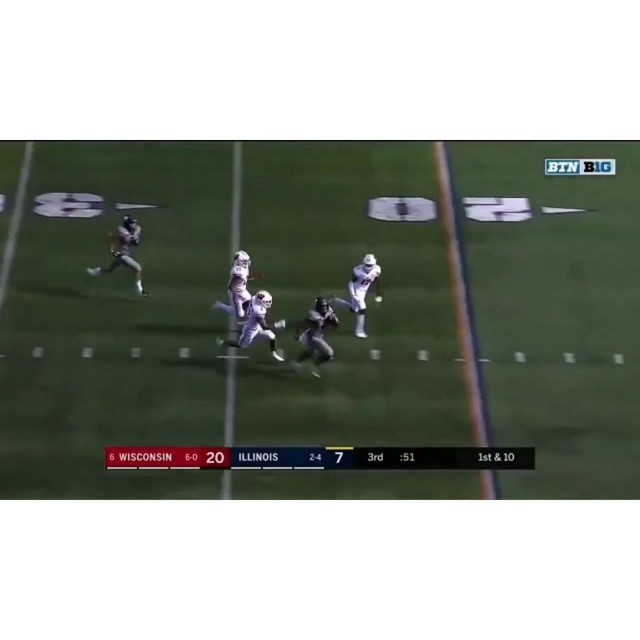american-football-player: (220, 290, 284, 362), (85, 228, 151, 296), (293, 298, 340, 380), (209, 251, 256, 329), (343, 254, 384, 338)
